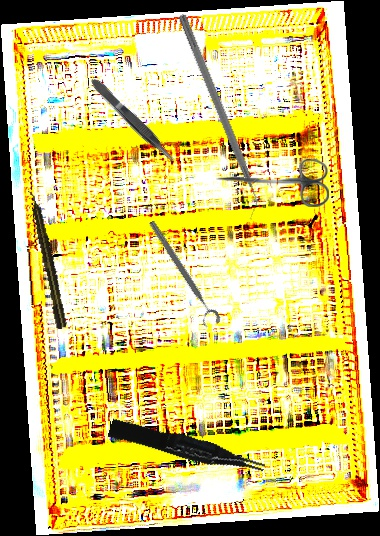Chopper: (167, 13, 267, 221)
Fixation Ring: (140, 218, 223, 331)
Handpiece: (26, 189, 69, 330)
Iris Scissors: (215, 157, 330, 207)
Tissue Forceps: (107, 411, 267, 486), (87, 74, 180, 168)
